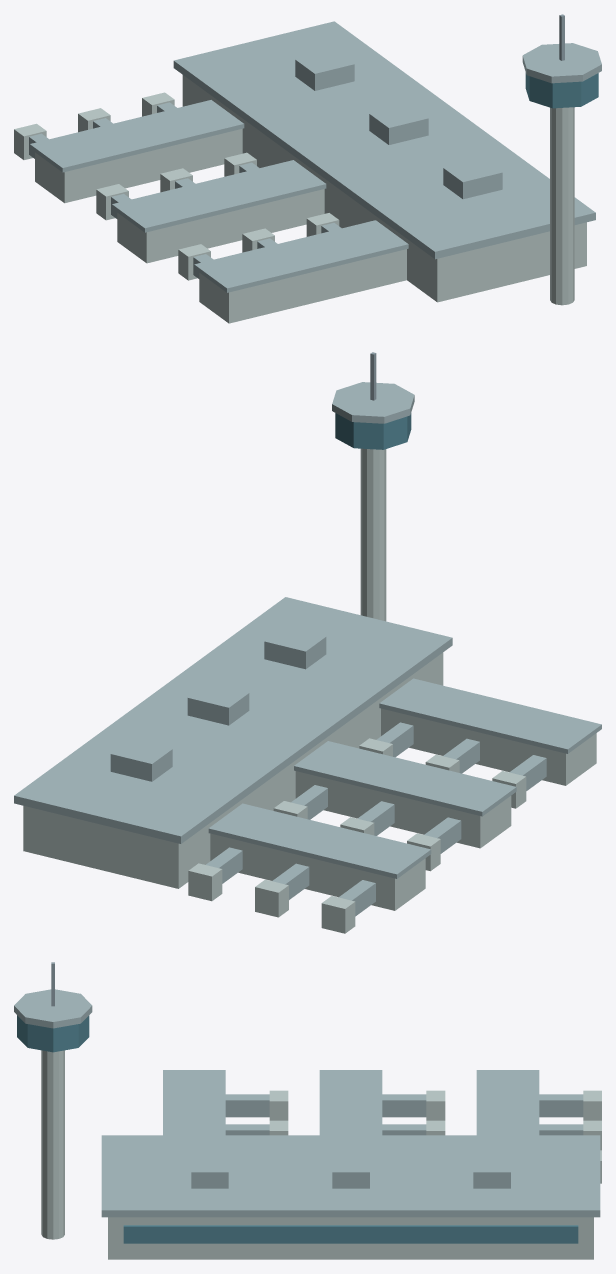
The model's file is uita-terminal.glb.
3 views of the same model, one above another, from view 1: azimuth 30°, elevation 25°; view 2: azimuth 150°, elevation 25°; view 3: azimuth 270°, elevation 25° (orthographic). The views are drawn at different scales.
Parts seen in each view (by area): view 1: Main terminal; view 2: Main terminal; view 3: Main terminal.
Part boxes in pixels (box(x1,y1,x2,y2)): Main terminal: box(14, 14, 601, 323); Main terminal: box(14, 352, 601, 933); Main terminal: box(14, 962, 601, 1259).
Bounding box in the file's own units: 2.36 × 1.91 × 3.75.
